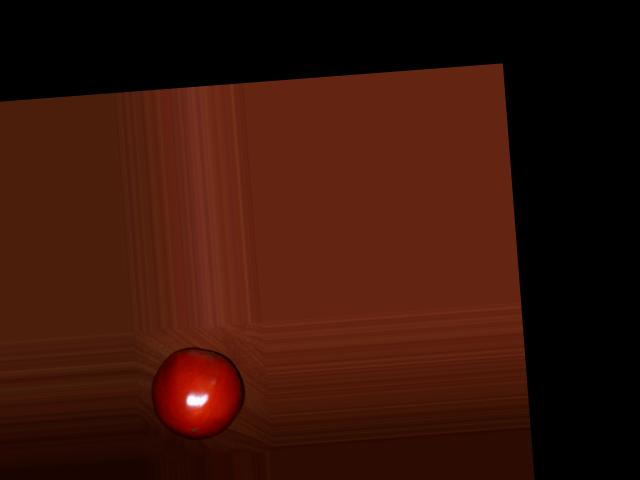tomato: (147, 344, 247, 443)
